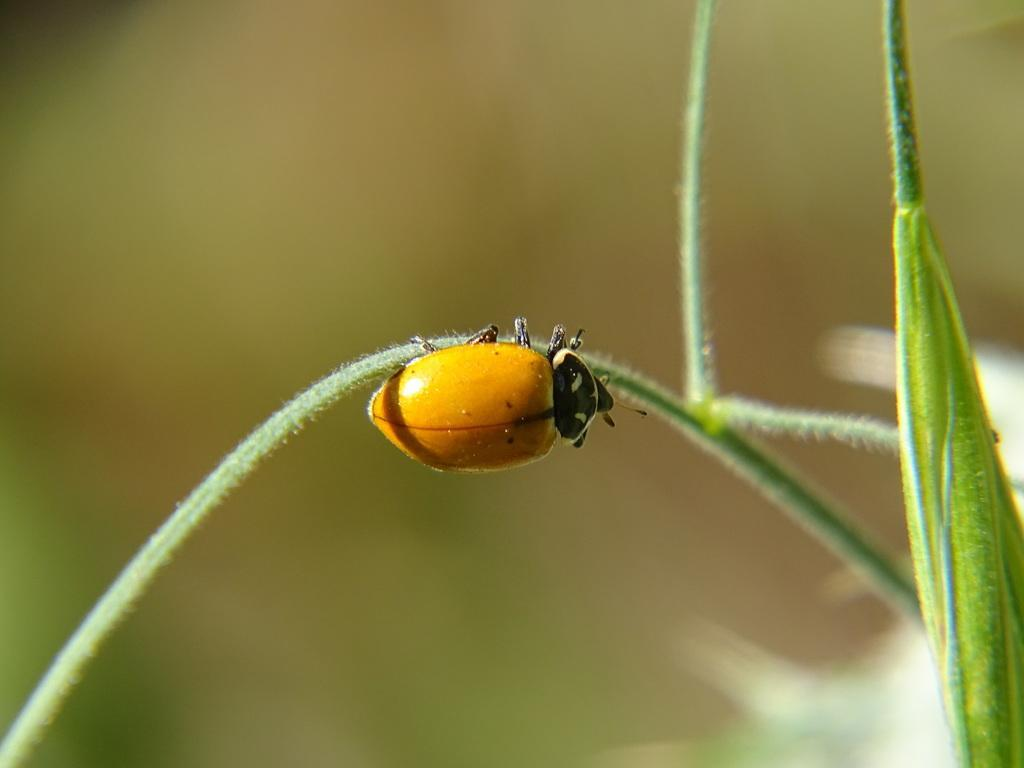ladybug: (365, 313, 655, 483)
